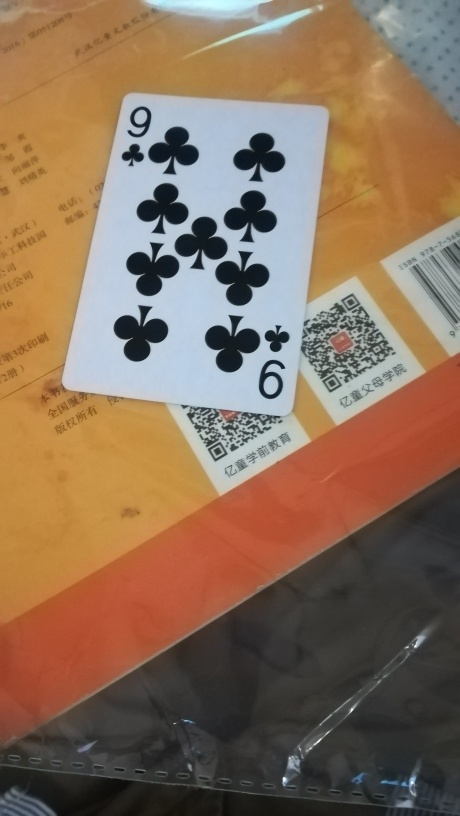mh 9: (58, 90, 331, 418)
